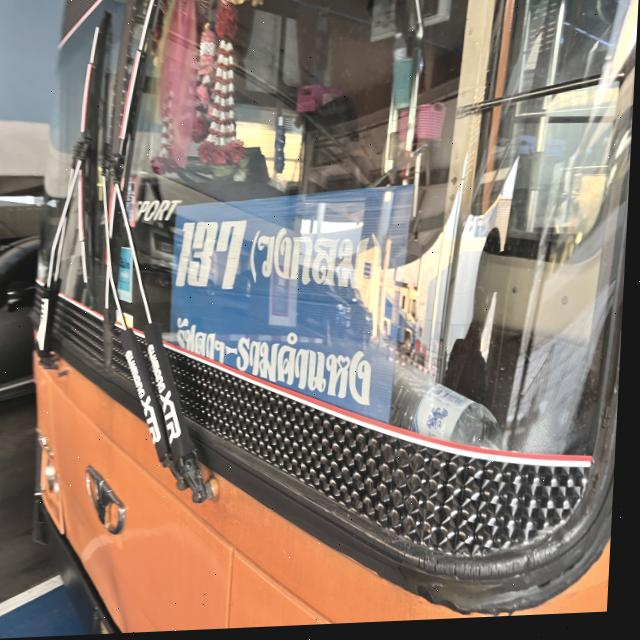BMTA-bus: (0, 0, 640, 640)
Destination-Sign-Normal: (169, 186, 418, 435)
